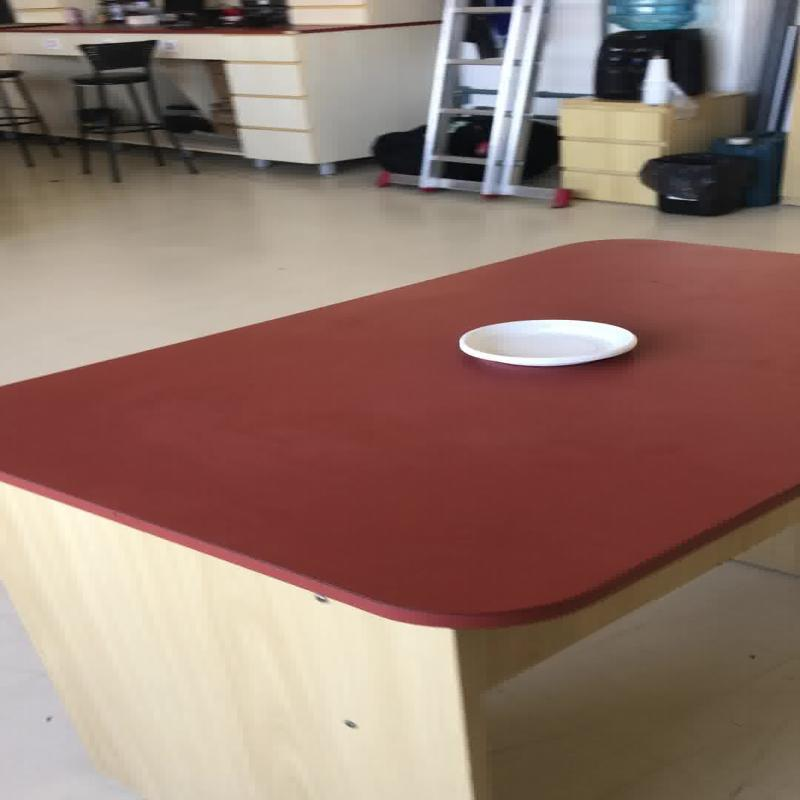plate: (456, 318, 636, 366)
